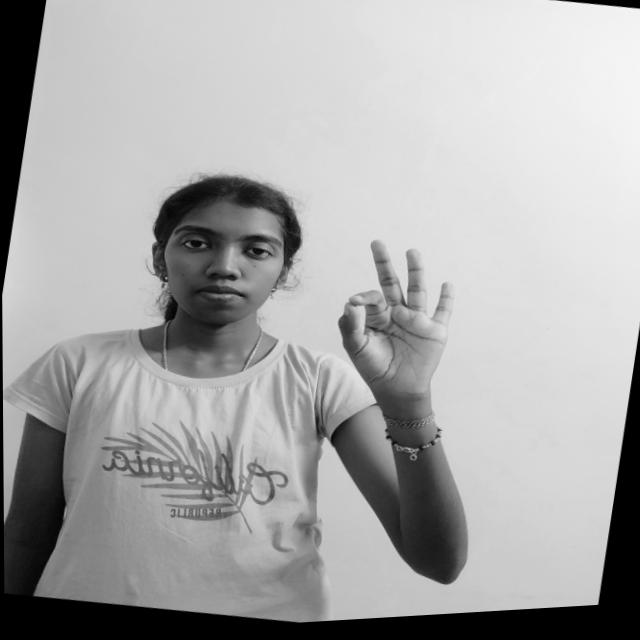Superb: (308, 225, 479, 427)
